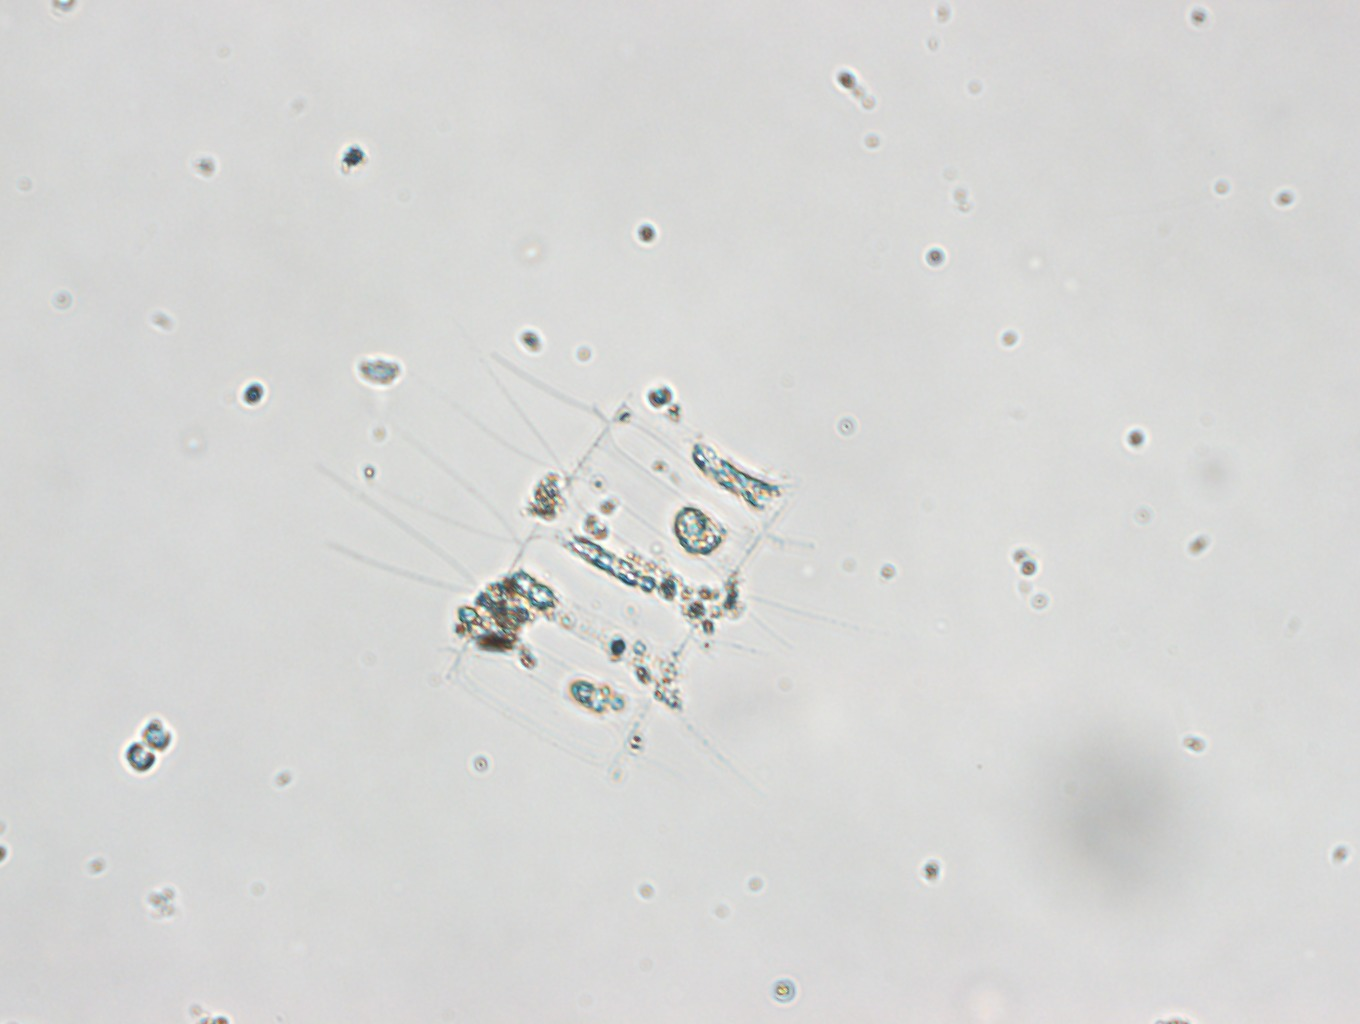chaetoceros: (312, 338, 839, 776)
